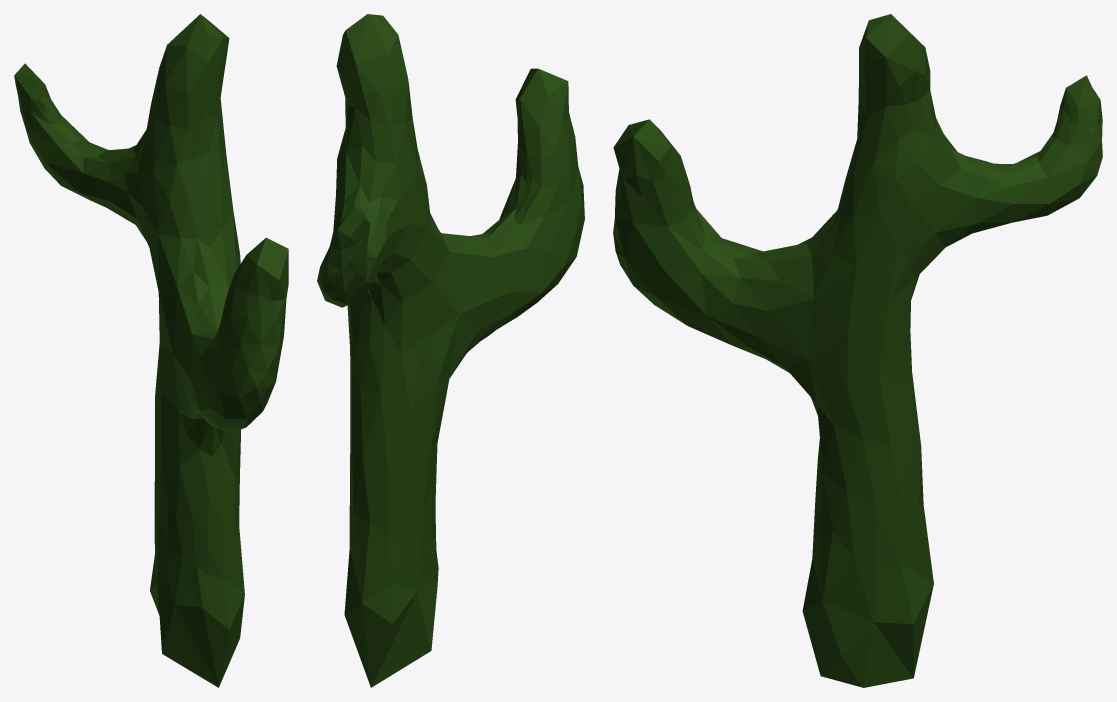
File: cactus2.FBX
3 renders of one model, left to right at view 1: azimuth 30°, elevation 25°; view 2: azimuth 150°, elevation 25°; view 3: azimuth 270°, elevation 25°, orthographic. The views are drawn at different scales.
Visible parts, largest first — view 1: cactus; view 2: cactus; view 3: cactus.
Boxes of the visible parts, <box> form: cactus: <box>14,14,288,687</box>; cactus: <box>317,14,584,687</box>; cactus: <box>613,14,1102,687</box>.
Size of the model in its own units: 1.03 by 5.33 by 3.52.
2 materials, 2 textured.
